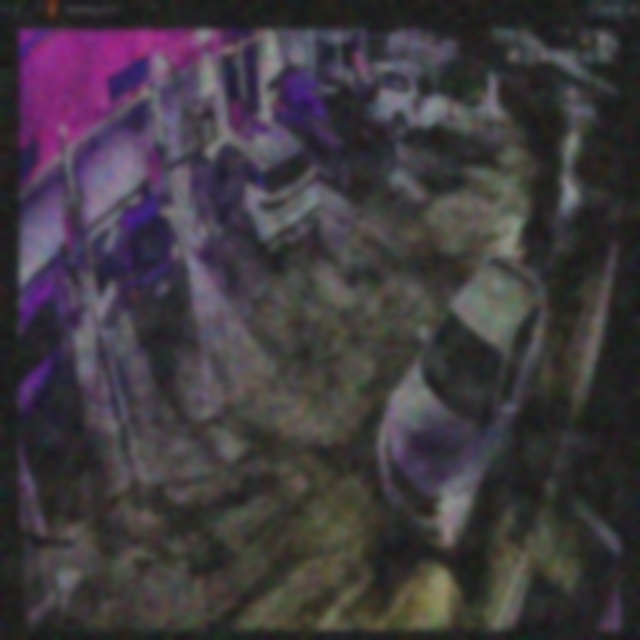Car: (378, 257, 547, 549), (192, 122, 317, 258), (272, 68, 394, 195), (90, 195, 190, 337)
